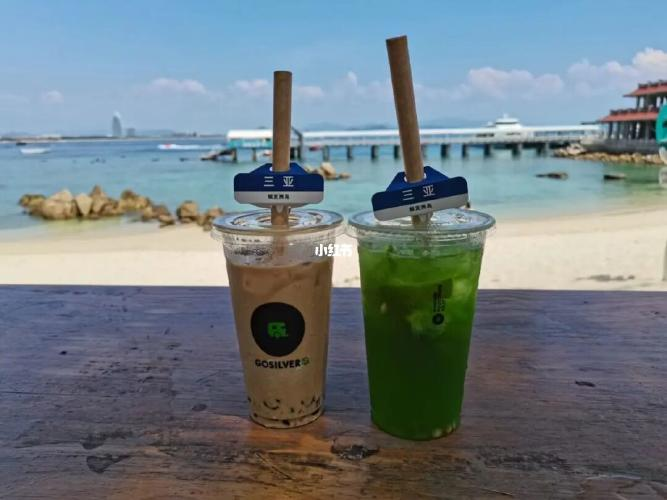sea_river: (19, 301, 253, 460)
